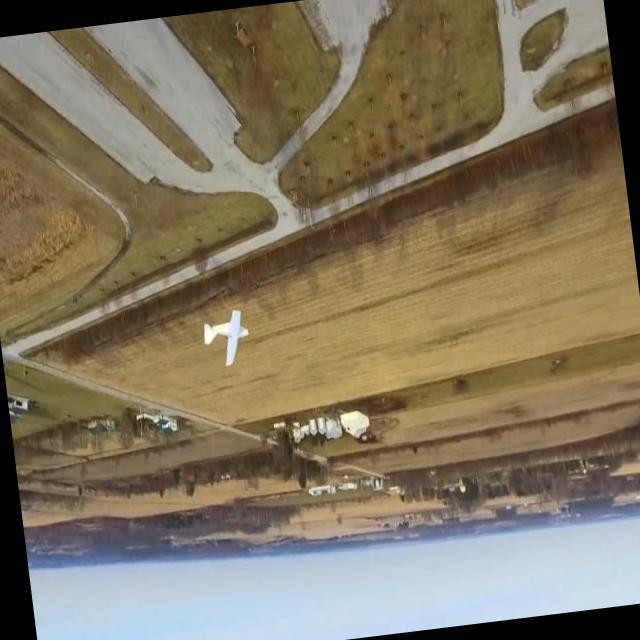UAV: (197, 304, 270, 377)
